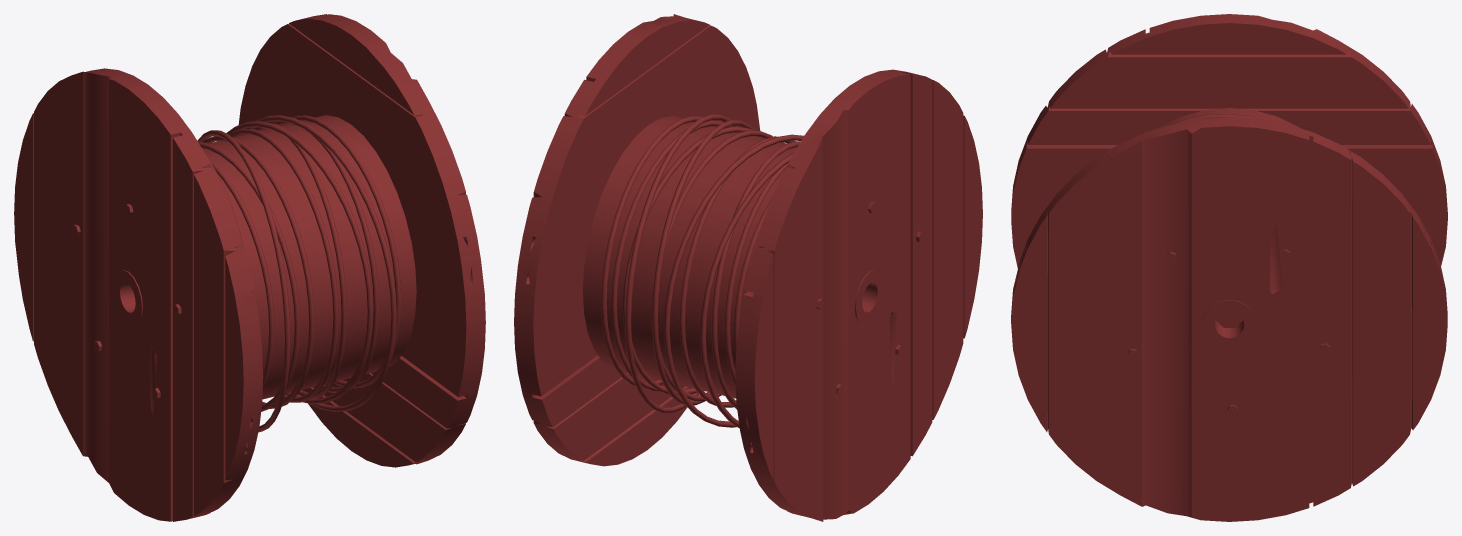
File: SM_CableReel01.fbx
3 renders of one model, left to right at view 1: azimuth 30°, elevation 25°; view 2: azimuth 150°, elevation 25°; view 3: azimuth 270°, elevation 25°, orthographic. The views are drawn at different scales.
Parts seen in each view (by area): view 1: CableReel01; view 2: CableReel01; view 3: CableReel01.
Boxes of the visible parts, <box> form: CableReel01: <box>14,14,485,521</box>; CableReel01: <box>514,14,982,521</box>; CableReel01: <box>1011,14,1447,521</box>.
Size of the model in its own units: 87.11 by 140 by 140.
